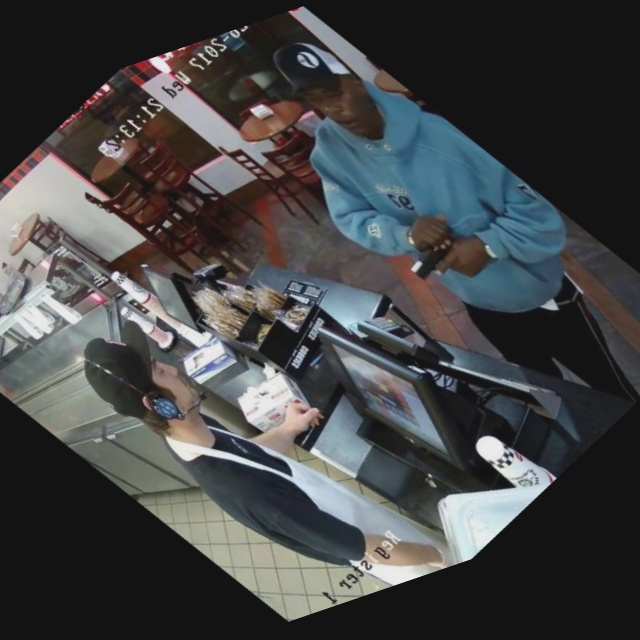gun: (370, 190, 503, 309)
